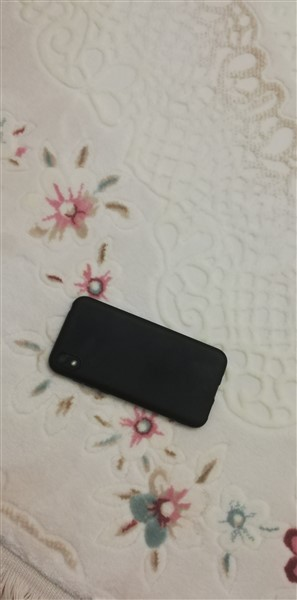telefon: (46, 294, 231, 442)
